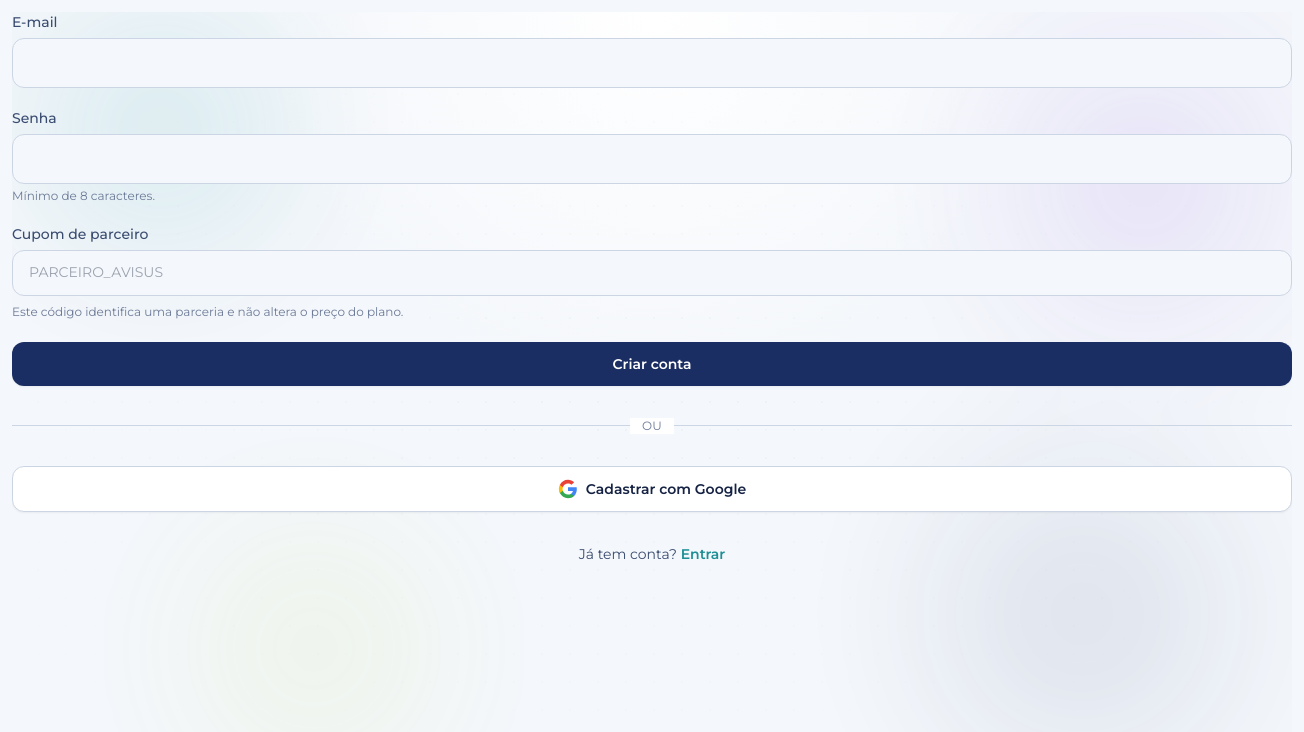
Test: RegisterForm › validates invalid coupon format on the client before submit
Type "cliente@avisus.test" into the field labelled "E-mail" at (652, 63), box 12,38 -> 1292,88
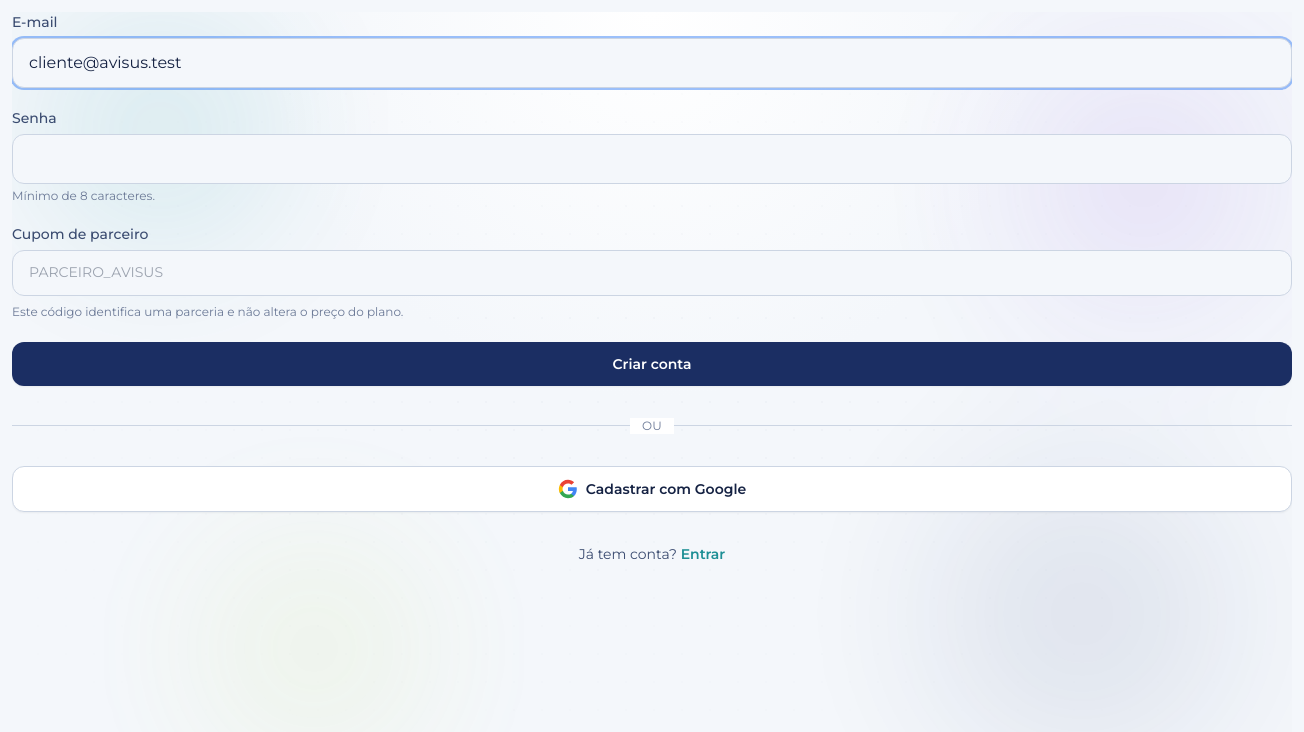
Type "password123" into the password field labelled "Senha" at (652, 159), box 12,134 -> 1292,184
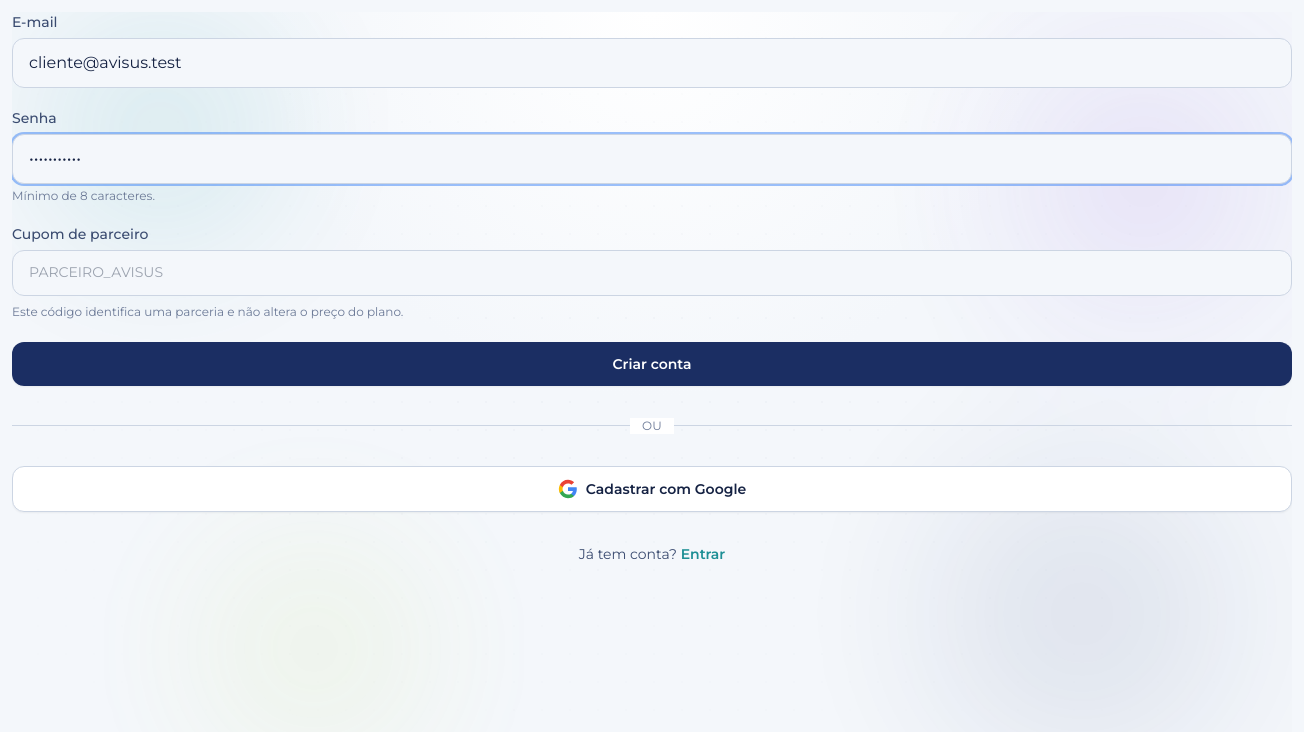
Type "abc" into the field labelled "Cupom de parceiro" at (652, 273), box 12,250 -> 1292,296
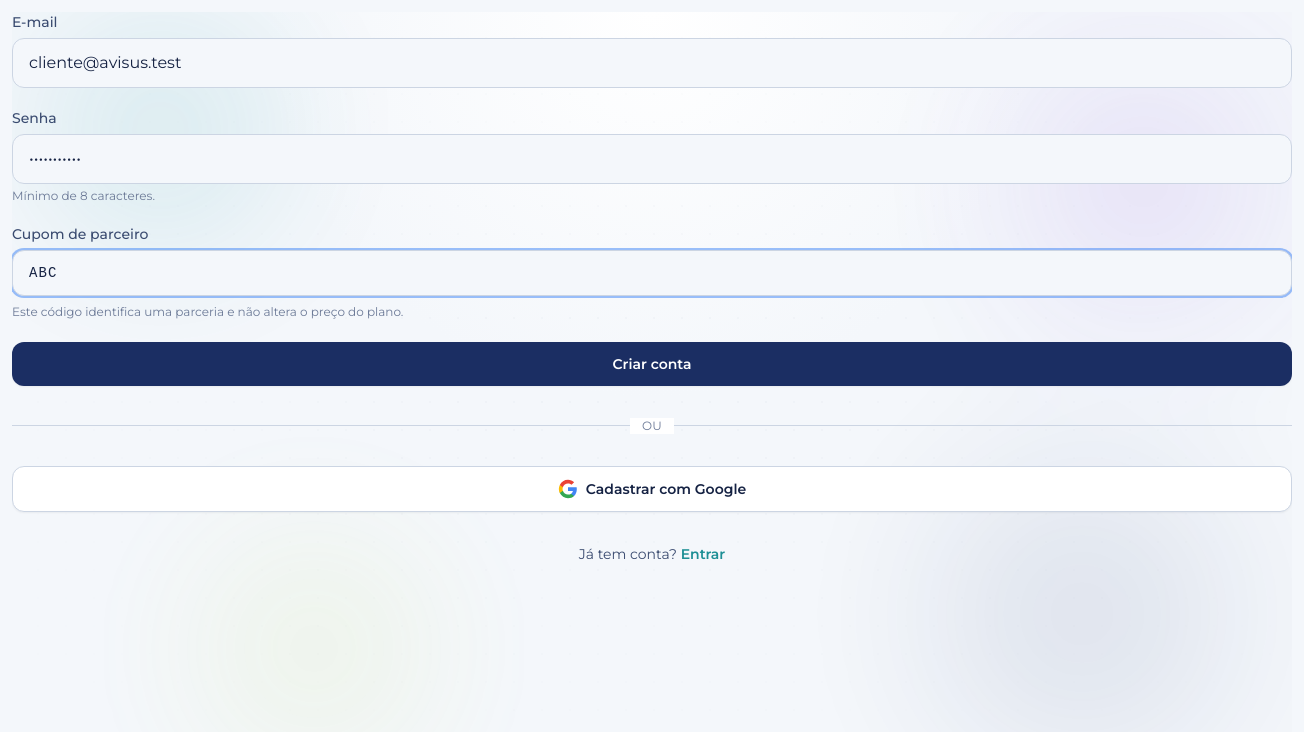
Click the button "Criar conta" at (652, 364), box 12,342 -> 1292,386
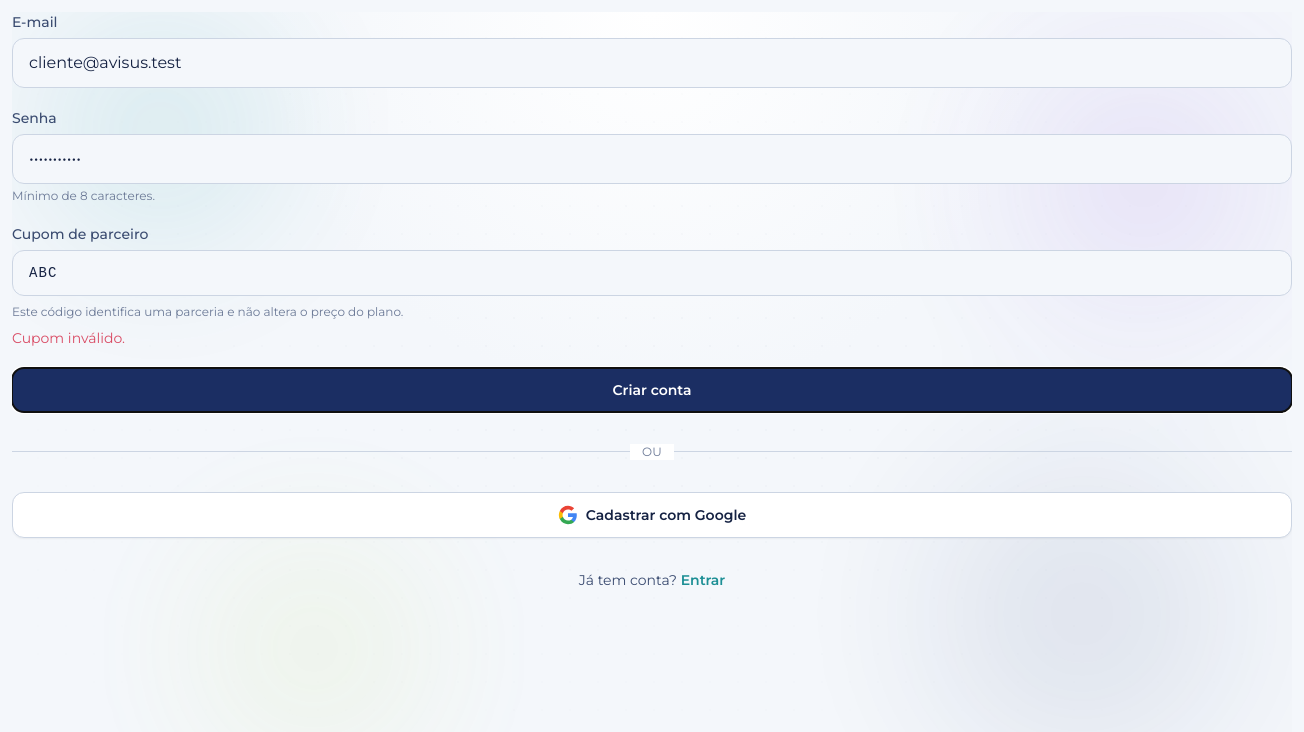
Now the message reads "Cupom inválido.", box 12,328 -> 125,346
